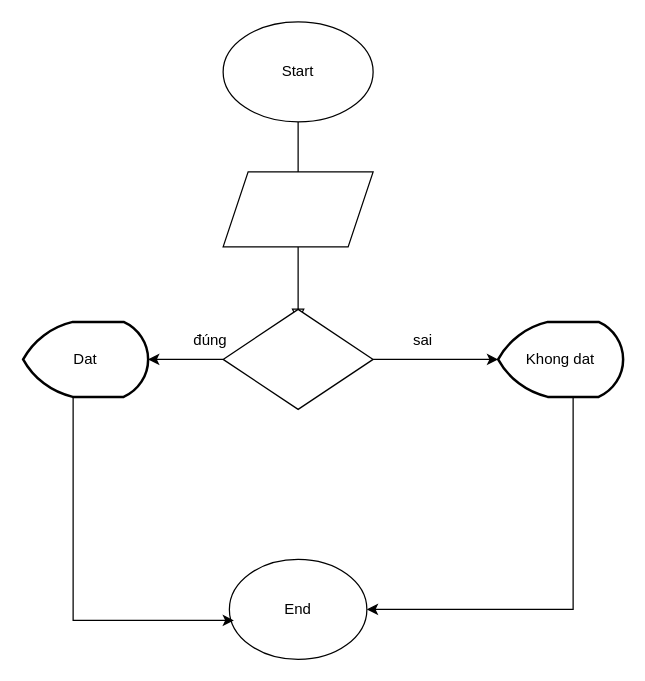
Some shapes in this 645 by 681 pixel diagram are drawn without their labels. Each missing label, with the centre of its shape:
"N > 5" belongs at pixel 297 358.
"Nhap diem N" belongs at pixel 297 209.
